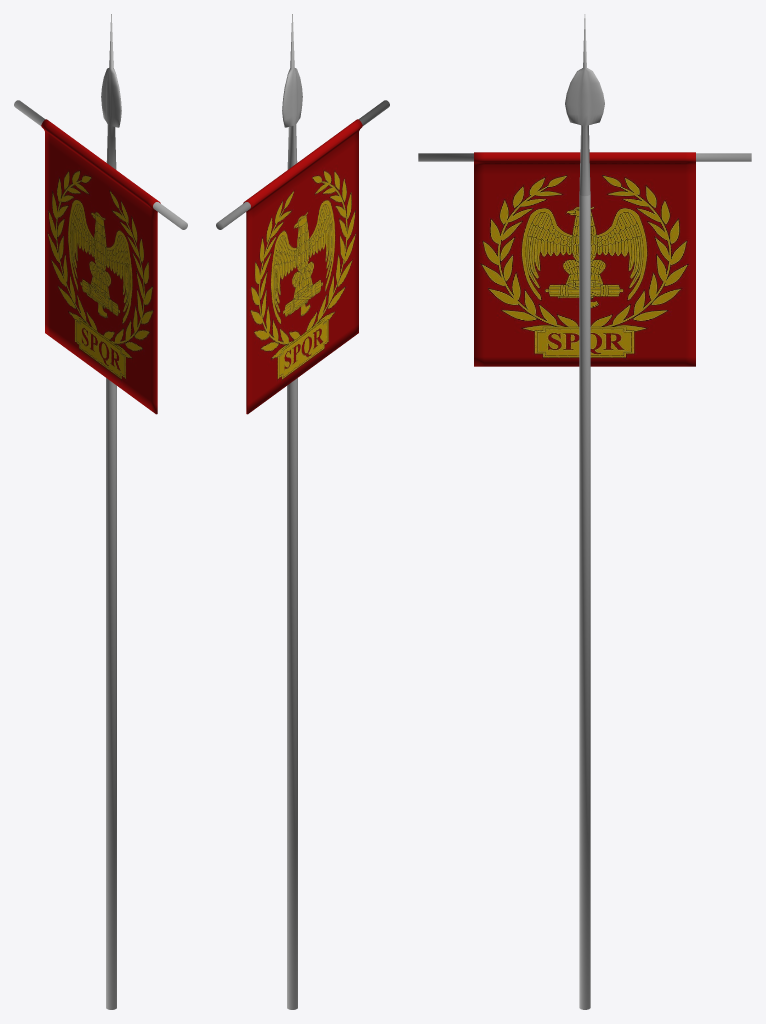
File: romanFlagMDD.fbx
3 renders of one model, left to right at view 1: azimuth 30°, elevation 25°; view 2: azimuth 150°, elevation 25°; view 3: azimuth 270°, elevation 25°, orthographic.
Visible parts, largest first — view 1: Roman Flag, Spear, flagPole; view 2: Roman Flag, Spear, flagPole; view 3: Roman Flag, Spear, flagPole.
Part boxes in pixels (x1,y1,x2,y2): Roman Flag: (41,119,160,414); Spear: (101,14,121,1009); flagPole: (14,100,187,229); Roman Flag: (243,119,362,414); Spear: (282,14,302,1009); flagPole: (216,100,389,229); Roman Flag: (474,152,695,366); Spear: (565,14,604,1009); flagPole: (418,153,751,161).
Bounding box in the file's own units: 0.0407 × 1.97 × 0.6.
